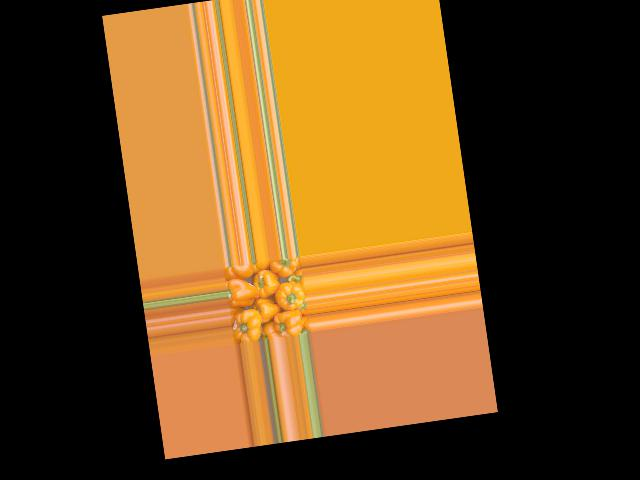bell_pepper: (222, 263, 255, 280)
